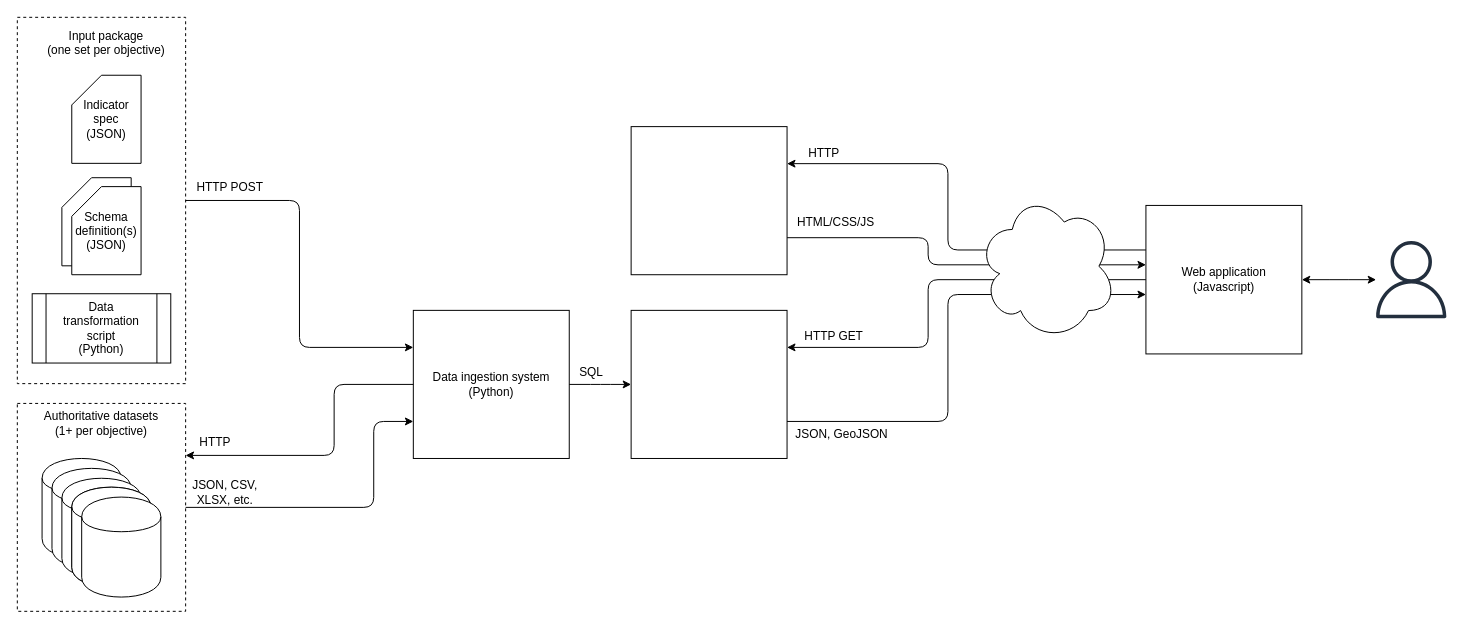
Image size: 1467x629. Some labels were removed from this diagram. Here are the shapes that lost their labels. From the top down, the centre of each, then its label:
At [708,200]: "Web server (Apache)".
At [1410,279]: "User".
At [708,383]: "Database + Delivery API (Python)".
